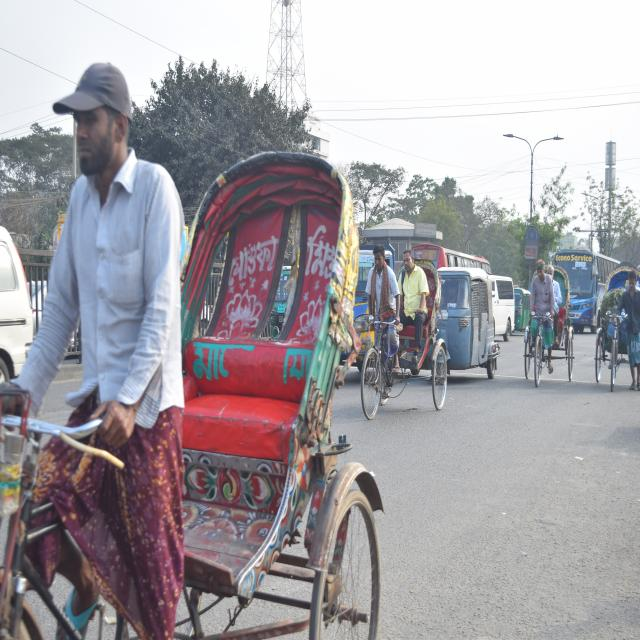bus: (553, 242, 598, 328)
microbus: (0, 205, 43, 404), (485, 265, 517, 347)
